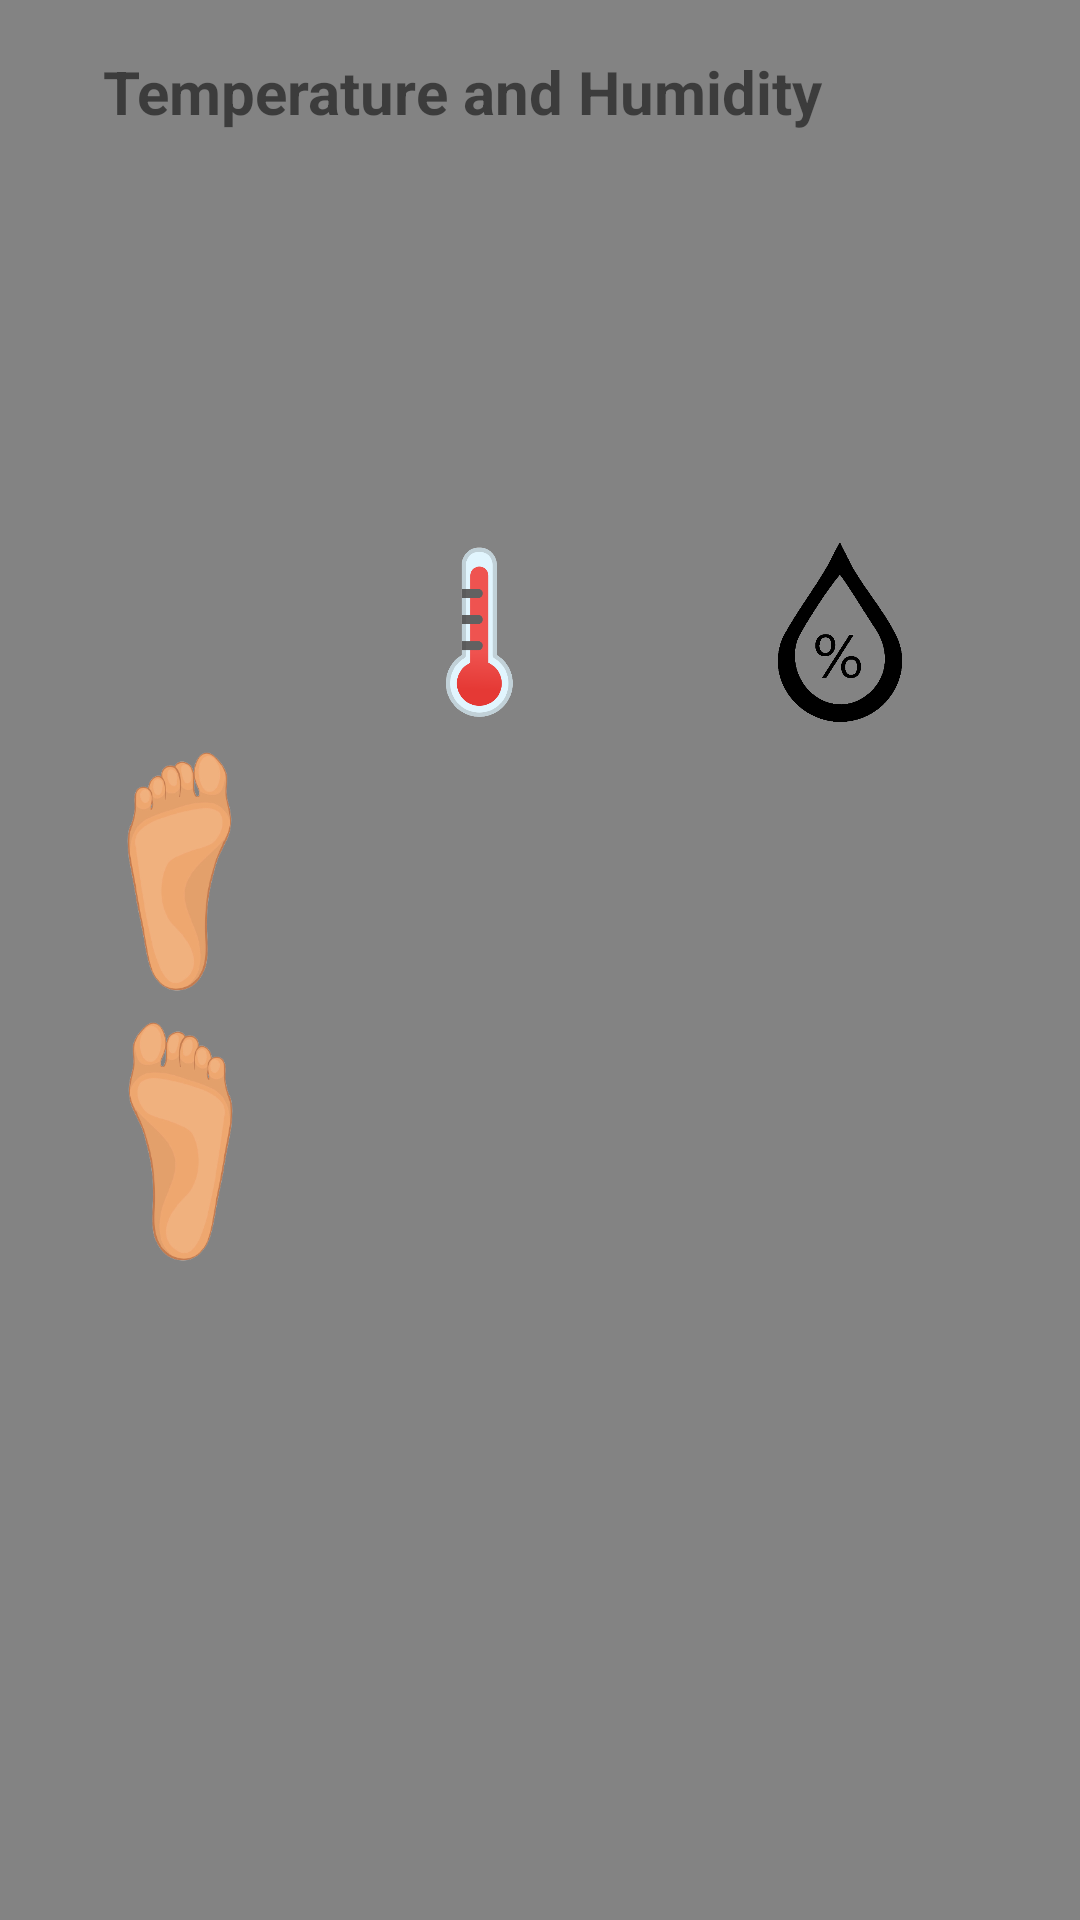

Screen size 1080*1920. Icon name, then its center in pixels as (x,y):
Humidity: (840,632)
Temperature: (479,632)
